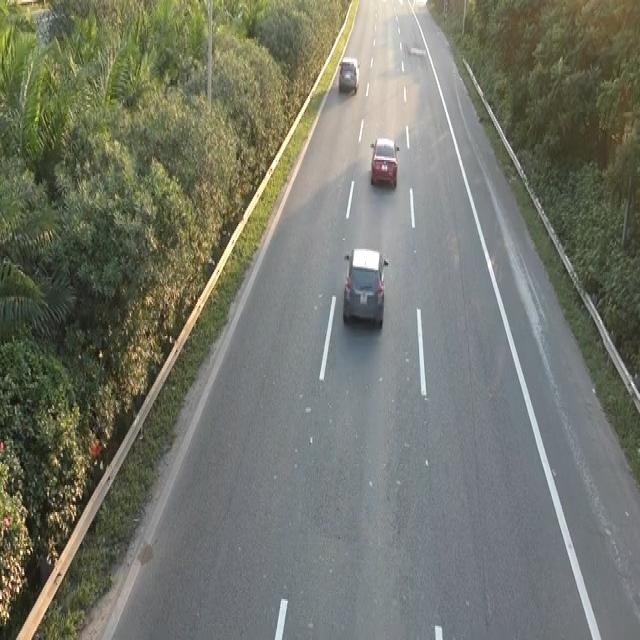bus: (341, 243, 389, 329), (369, 134, 399, 188), (337, 55, 360, 93)
